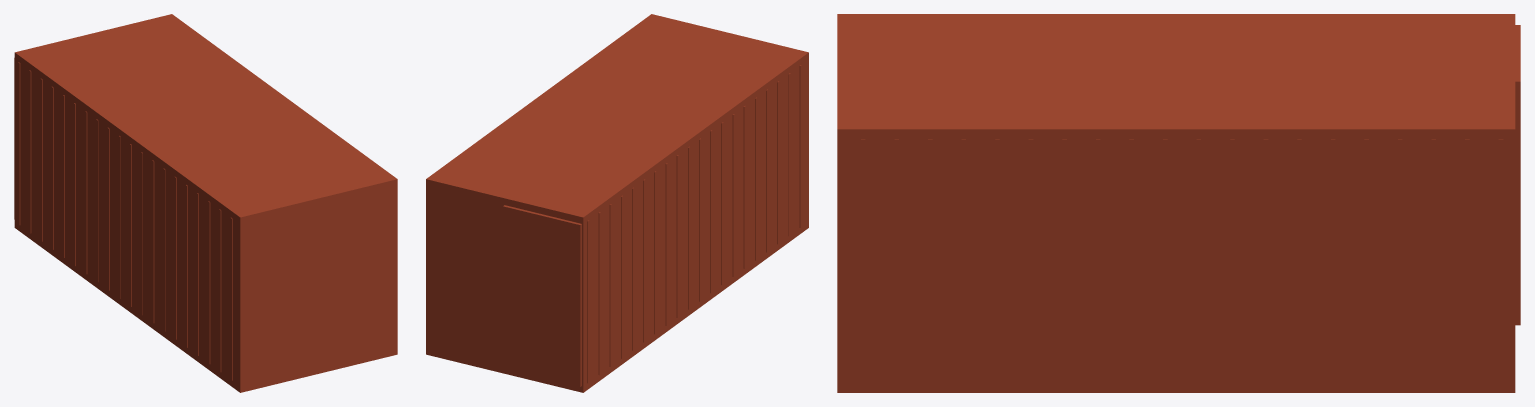
The model's file is p_shipping_container.glb.
The picture shows the model from 3 angles, left to right: view 1: azimuth 30°, elevation 25°; view 2: azimuth 150°, elevation 25°; view 3: azimuth 270°, elevation 25°; orthographic projection. The views are drawn at different scales.
Parts seen in each view (by area): view 1: shipping_container; view 2: shipping_container, door_l; view 3: shipping_container, door_l.
Boxes of the visible parts, <box> form: shipping_container: <box>14,14,397,392</box>; shipping_container: <box>426,14,808,392</box>; door_l: <box>503,205,581,386</box>; shipping_container: <box>837,14,1515,392</box>; door_l: <box>1515,25,1520,325</box>.
Bounding box in the file's own units: 2.46 × 2.6 × 6.1.
